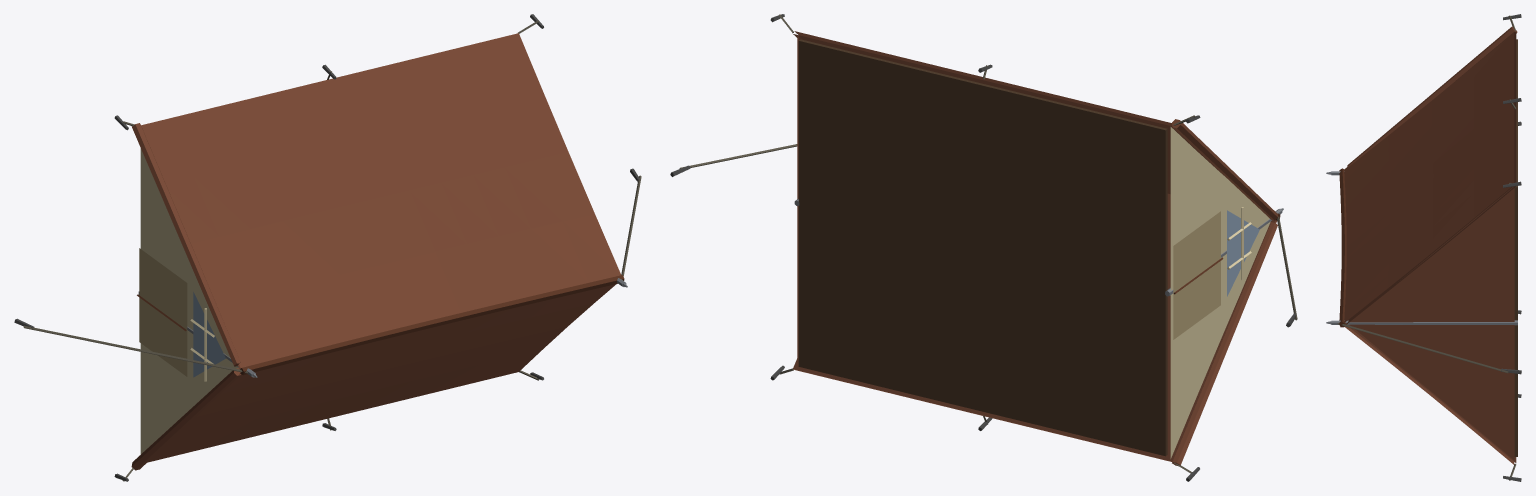
File: brown-88.obj
3 views of the same model, side by side, from view 1: azimuth 30°, elevation 25°; view 2: azimuth 150°, elevation 25°; view 3: azimuth 270°, elevation 25° (orthographic). The views are drawn at different scales.
Bounding box in the file's own units: 3.58 × 2 × 1.18.
Materials: 1 (1 with a texture image).
